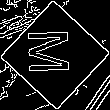M_E: (29, 31, 81, 79)
